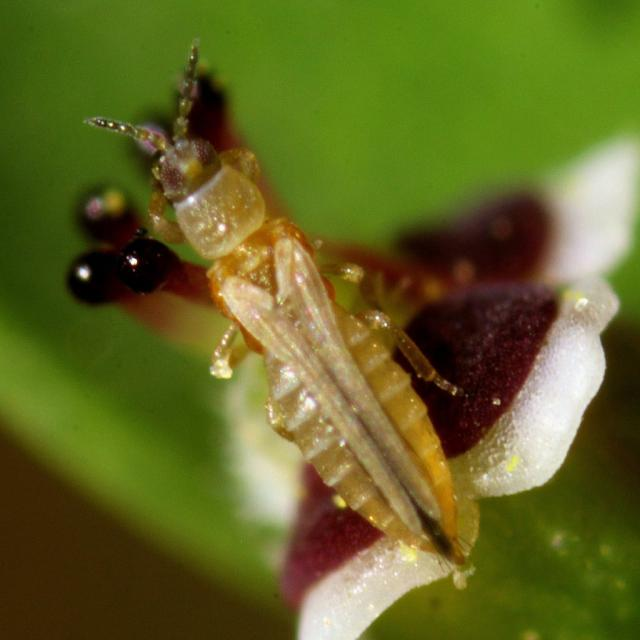Thrip-Adult-: (67, 24, 488, 592)
